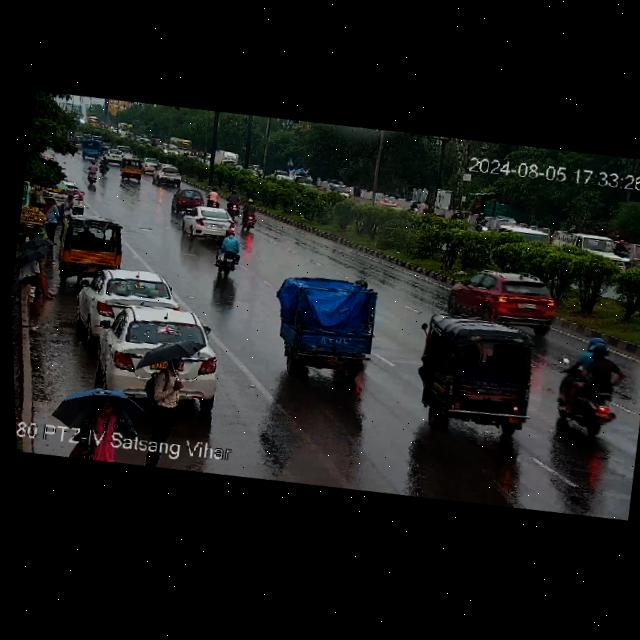car: (403, 311, 542, 442), (263, 262, 400, 385), (89, 297, 230, 415), (74, 258, 183, 354), (439, 260, 563, 339), (54, 210, 130, 281), (178, 203, 242, 244), (170, 185, 209, 221), (151, 162, 185, 187), (119, 156, 147, 180), (103, 144, 126, 167), (141, 157, 160, 174)
motorcycle: (545, 336, 633, 437), (209, 230, 249, 283), (235, 198, 263, 233), (614, 235, 634, 274), (226, 188, 243, 220), (205, 184, 223, 209), (86, 159, 100, 188), (476, 209, 490, 233), (99, 155, 110, 181)
person: (141, 332, 196, 445), (14, 240, 55, 304), (41, 194, 66, 239)
